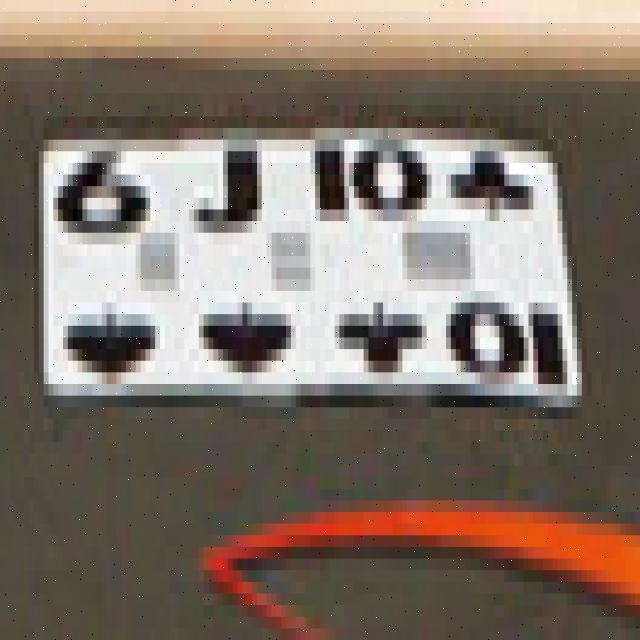Card-10: (310, 139, 579, 389)
Card-6: (43, 137, 182, 391)
Card-J: (181, 141, 313, 393)
